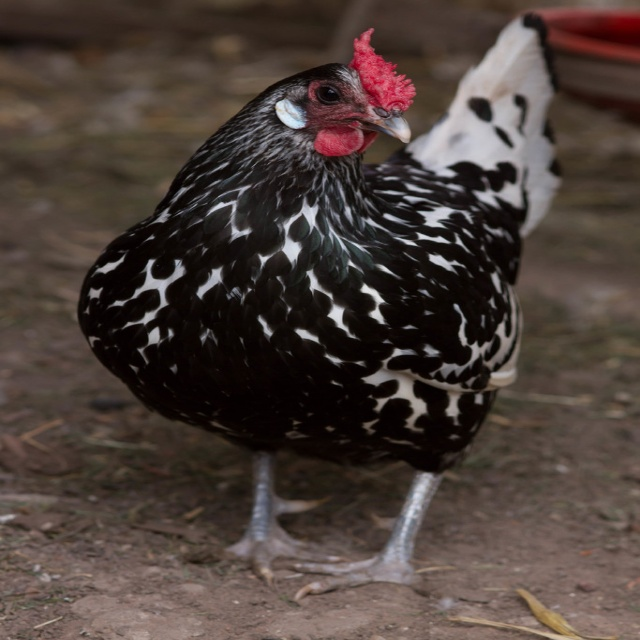Chicken: (54, 48, 575, 604)
